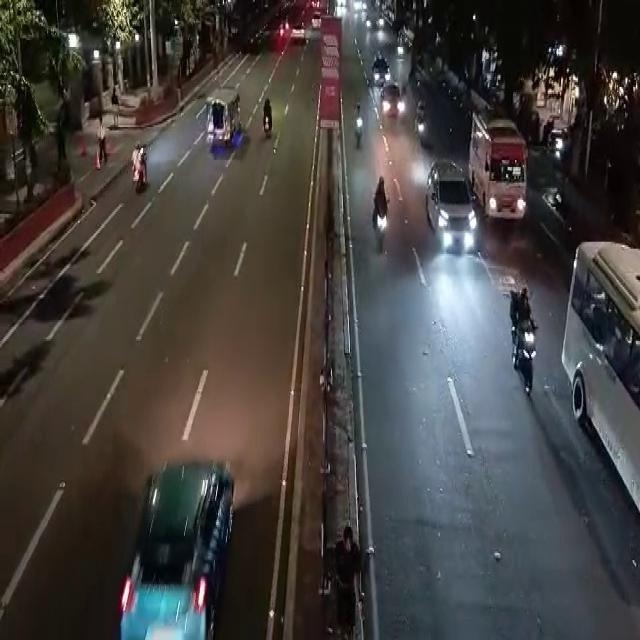bus: (0, 237, 640, 524), (477, 90, 524, 226)
car: (122, 464, 229, 634), (432, 157, 482, 258), (382, 90, 406, 118), (372, 59, 392, 84)
jeepney: (201, 83, 242, 162)
motorcycle: (503, 290, 534, 386), (365, 174, 392, 259), (127, 140, 145, 202), (258, 88, 276, 134), (349, 99, 362, 155), (413, 101, 427, 147)
